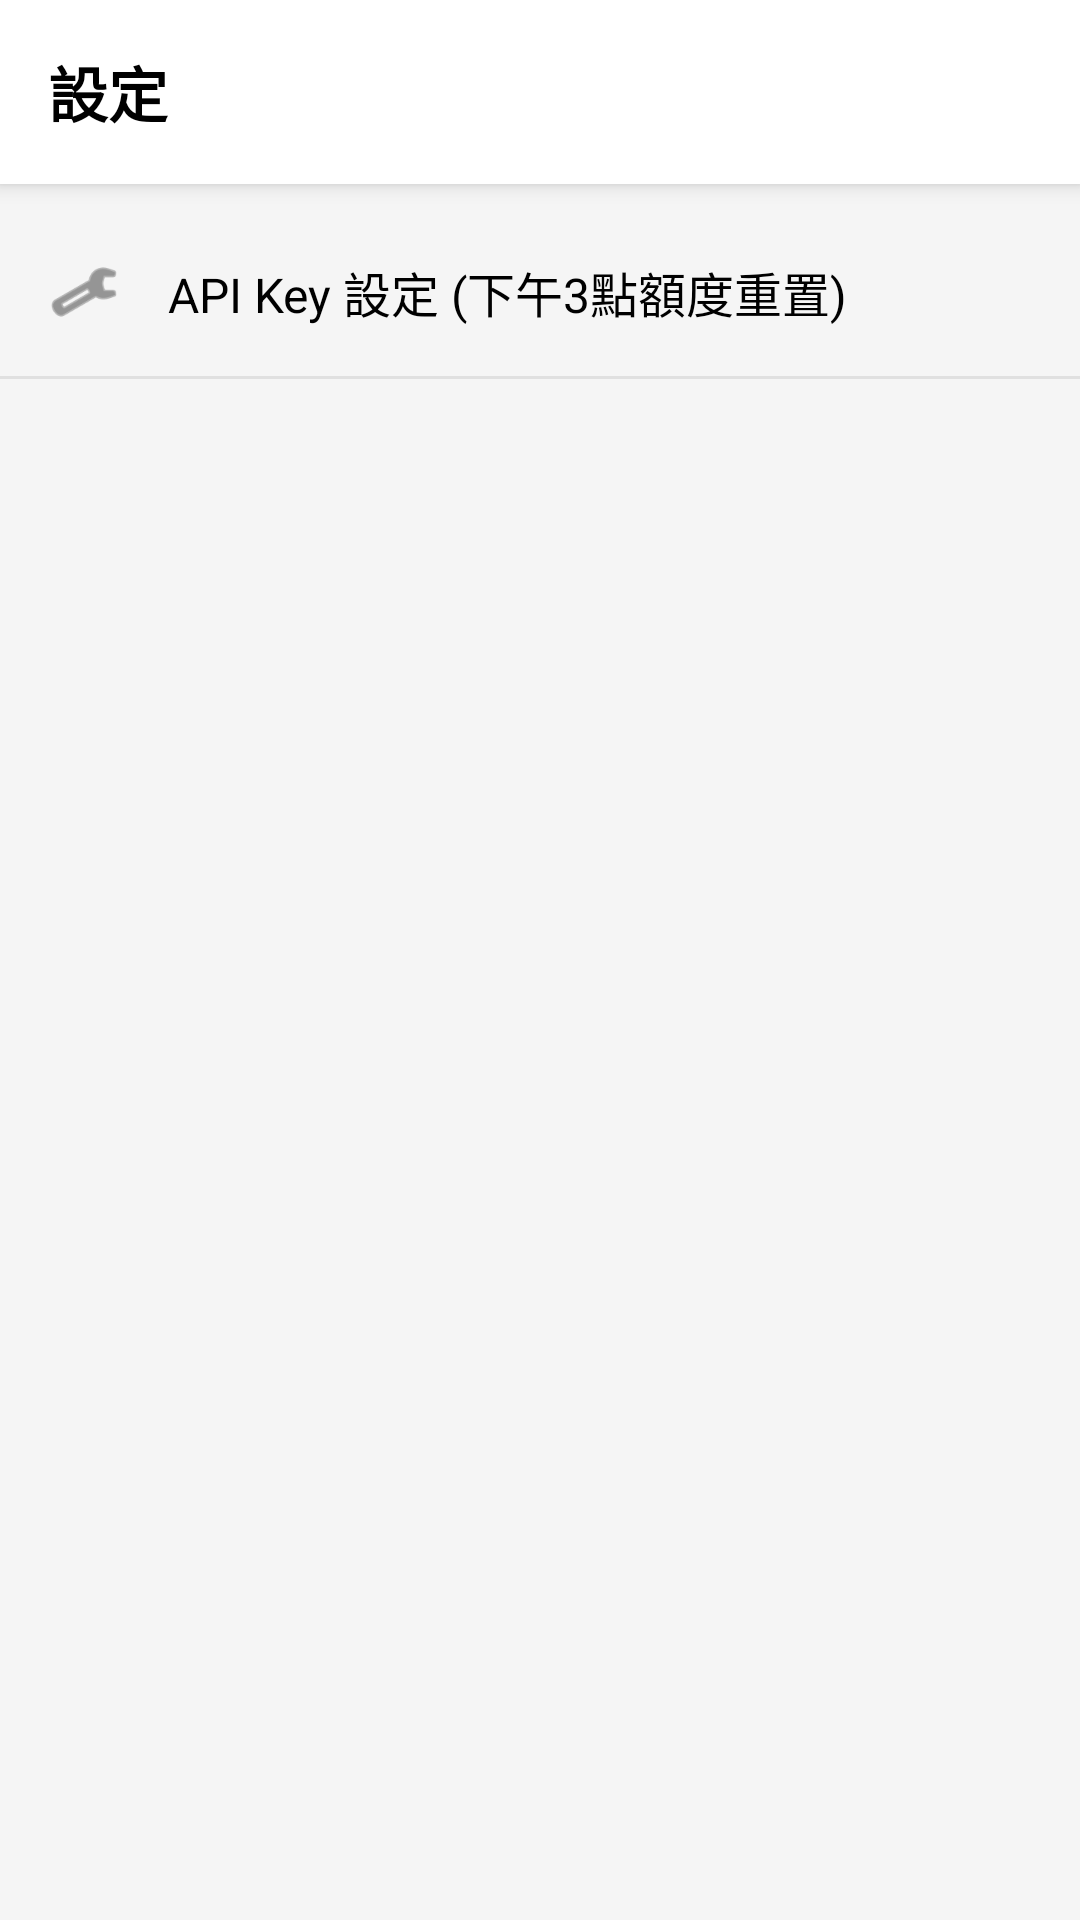

Icons on this 1080 × 1920 Android screen, each with its box as (x1, y1, x2, y2):
manage: (52, 267, 116, 317)
